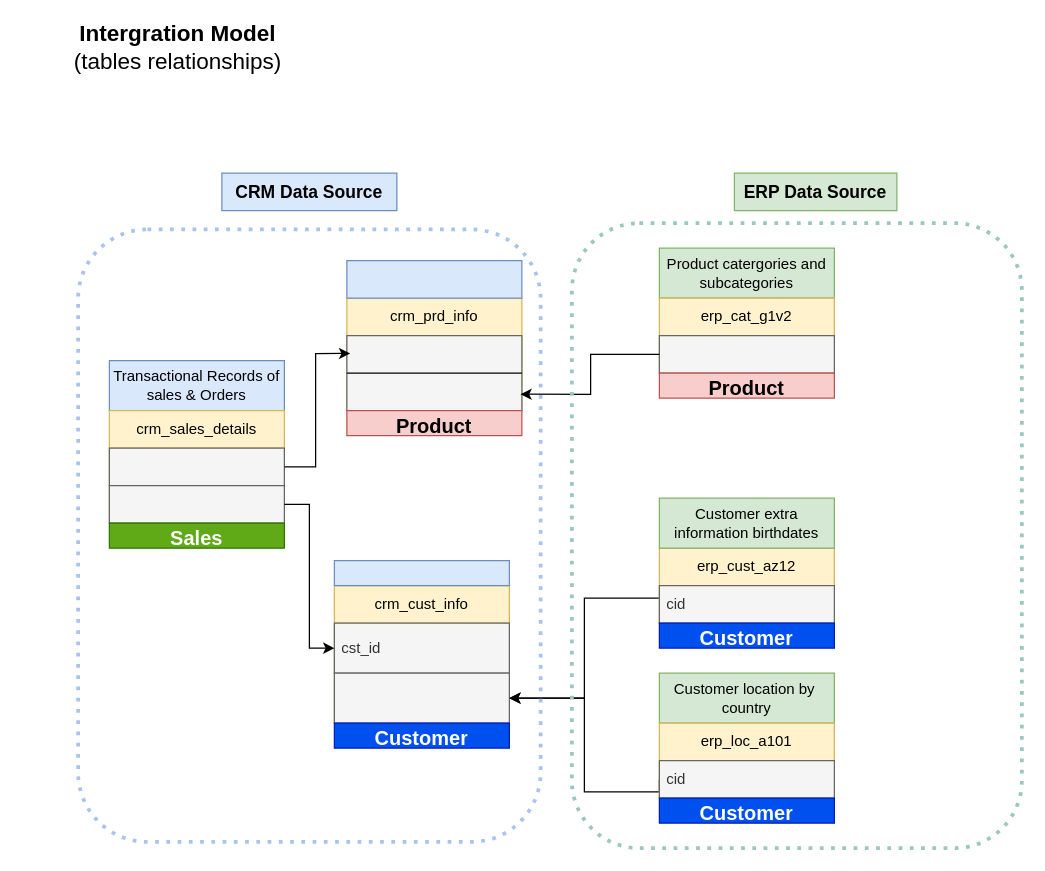
Image size: 1045x871. Some labels were removed from this diagram. The shapes that lost their labels are listed below. From the top down, each one's centre as x and y in pixels, then its label:
At point (434, 278): "Historical product information".
At point (434, 372): "prd_key cat_id".
At point (746, 353): "id".
At point (196, 466): "sls_prd_key".
At point (196, 503): "sls_cust_id".
At point (421, 572): "Customer information".
At point (421, 697): "cst_key".
